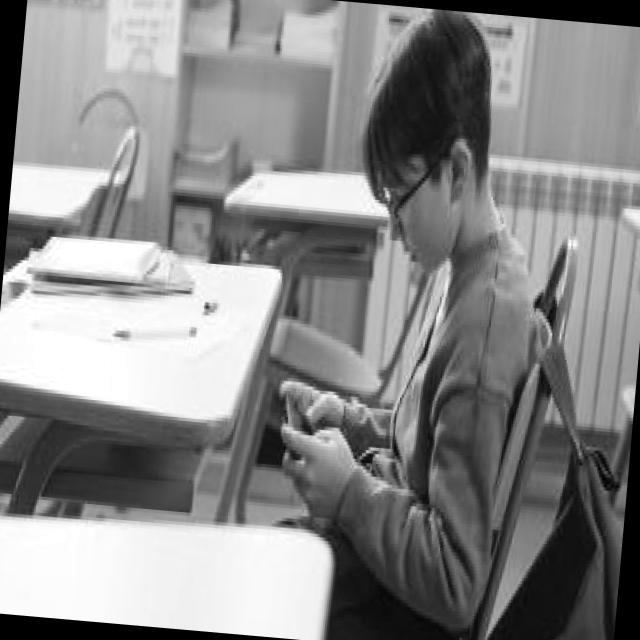phone: (280, 390, 317, 464)
